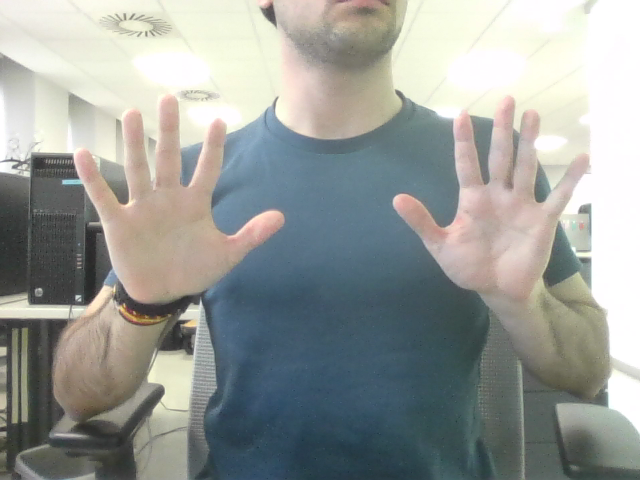Manos Arriba: (108, 113, 558, 269)
